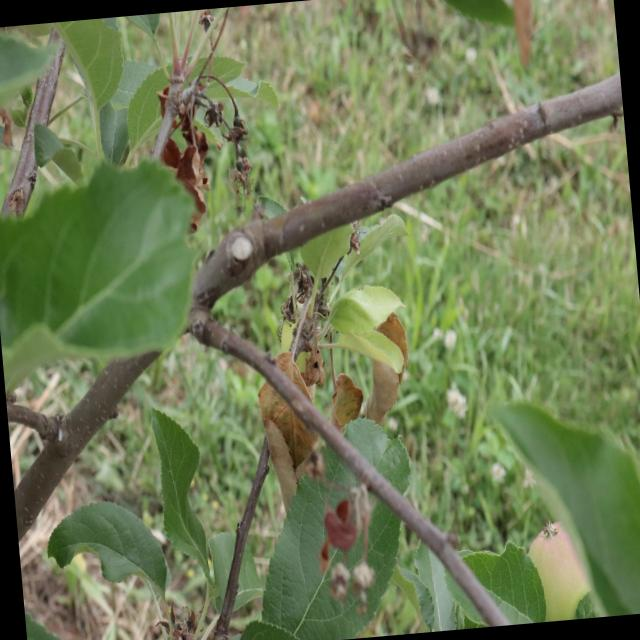-FireBlight-: (152, 78, 222, 226)
